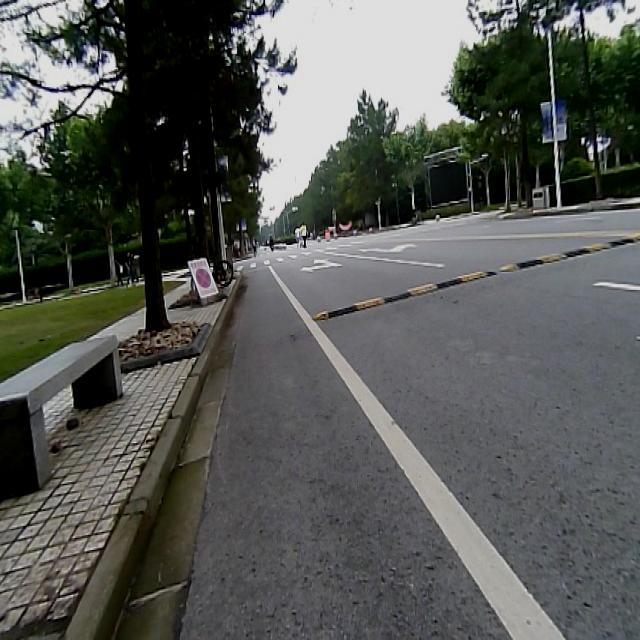Speed Bump: (313, 267, 493, 320), (501, 222, 640, 272)
